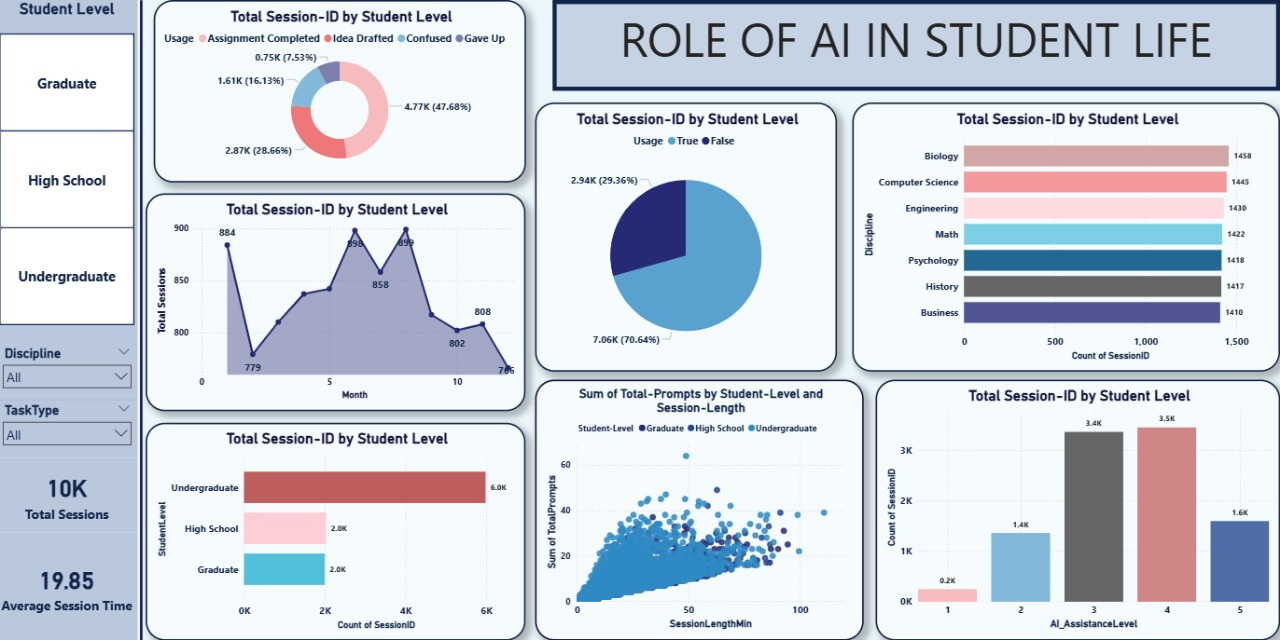

This screenshot's page, from the dashboard's own definition file:
{"tool":"powerbi","page":{"name":"Page 2","canvas":[2000,1000],"ordinal":1},"visuals":[{"type":"advancedSlicerVisual","title":"Student Level","fields":{"Values":["AI_Student.StudentLevel"]},"box":[0,0,220,534],"z":0},{"type":"slicer","title":"Discipline","fields":{"Values":["AI_Student.TaskType"]},"box":[0,624,220,90],"z":1000},{"type":"slicer","title":"Discipline","fields":{"Values":["AI_Student.Discipline"]},"box":[0,534,220,90],"z":2000},{"type":"card","fields":{"Values":["AI_Student.Total Sessions"]},"box":[0,714,220,116],"z":3000},{"type":"card","fields":{"Values":["AI_Student.Average Session Time (mins)"]},"box":[0,830,220,170],"z":4000},{"type":"clusteredBarChart","title":"Total Session-ID by Student Level","fields":{"Category":["AI_Student.StudentLevel"],"Y":["CountNonNull(AI_Student.SessionID)"]},"box":[232,660,592,340],"z":5000},{"type":"pieChart","title":"Total Session-ID by Student Level","fields":{"Category":["AI_Student.UsedAgain"],"Y":["CountNonNull(AI_Student.UsedAgain)"]},"box":[839.4,159.9,470.6,419.7],"z":6000},{"type":"clusteredBarChart","title":"Total Session-ID by Student Level","fields":{"Y":["CountNonNull(AI_Student.SessionID)"],"Category":["AI_Student.Discipline"]},"box":[1333.6,159.9,666.8,419.7],"z":7000},{"type":"scatterChart","title":"Sum of Total-Prompts by Student-Level and Session-Length","fields":{"X":["AI_Student.SessionLengthMin"],"Y":["Sum(AI_Student.TotalPrompts)"],"Series":["AI_Student.StudentLevel"]},"box":[839.4,592.3,512.4,407],"z":8000},{"type":"donutChart","title":"Total Session-ID by Student Level","fields":{"Y":["CountNonNull(AI_Student.FinalOutcome)"],"Category":["AI_Student.FinalOutcome"]},"box":[245,0,580,285],"z":9000},{"type":"lineChart","title":"Total Session-ID by Student Level","fields":{"Y":["AI_Student.Total Sessions"],"Category":["AI_Student.Month"]},"box":[232,302,592,340],"z":10000},{"type":"columnChart","title":"Total Session-ID by Student Level","fields":{"Y":["CountNonNull(AI_Student.SessionID)"],"Category":["AI_Student.AI_AssistanceLevel"]},"box":[1369.9,592.3,630.5,407],"z":11000},{"type":"shape","box":[220,0,12,1000],"z":12000},{"type":"textbox","box":[866.6,0,1133.7,141.7],"z":13000}]}

Visuals, with their boxes in screenshot pixels (x1, y1, x2, y2), scaled from the page's 2000x1000 canvas onto the 1280x640 screenshot:
"Student Level" advancedSlicerVisual: x1=0, y1=0, x2=141, y2=342
"Discipline" slicer: x1=0, y1=399, x2=141, y2=457
"Discipline" slicer: x1=0, y1=342, x2=141, y2=399
card - AI_Student.Total Sessions: x1=0, y1=457, x2=141, y2=531
card - AI_Student.Average Session Time (mins): x1=0, y1=531, x2=141, y2=639
"Total Session-ID by Student Level" clusteredBarChart: x1=148, y1=422, x2=527, y2=639
"Total Session-ID by Student Level" pieChart: x1=537, y1=102, x2=838, y2=371
"Total Session-ID by Student Level" clusteredBarChart: x1=854, y1=102, x2=1279, y2=371
"Sum of Total-Prompts by Student-Level and Session-Length" scatterChart: x1=537, y1=379, x2=865, y2=639
"Total Session-ID by Student Level" donutChart: x1=157, y1=0, x2=528, y2=182
"Total Session-ID by Student Level" lineChart: x1=148, y1=193, x2=527, y2=411
"Total Session-ID by Student Level" columnChart: x1=877, y1=379, x2=1279, y2=639
shape: x1=141, y1=0, x2=148, y2=639
textbox: x1=555, y1=0, x2=1279, y2=91
